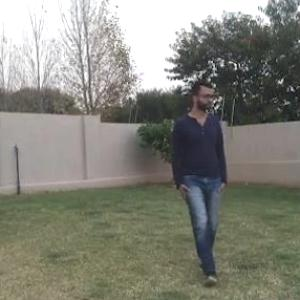follow: (178, 77, 228, 270)
